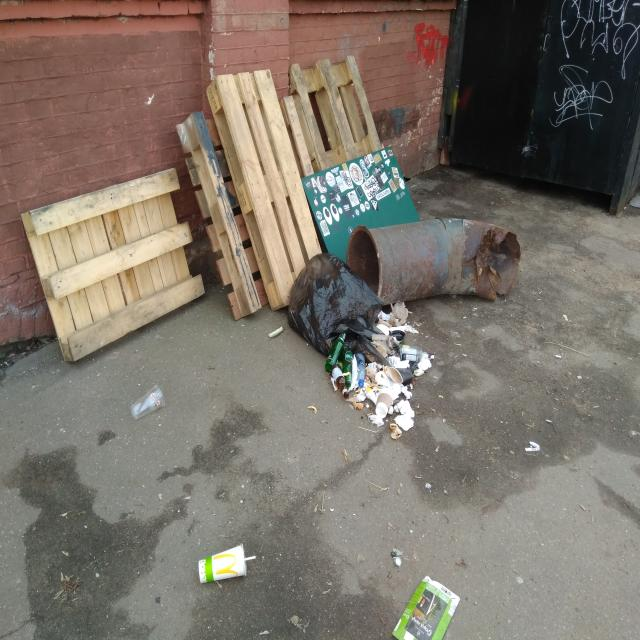entulho: (18, 163, 208, 366), (204, 58, 320, 310), (175, 108, 268, 319), (347, 214, 521, 302), (304, 148, 422, 264), (296, 57, 382, 165)
lixo domiciliar: (287, 250, 383, 356), (389, 575, 462, 640), (368, 364, 416, 436), (198, 542, 256, 582), (372, 304, 407, 357), (130, 384, 165, 420), (390, 344, 434, 361), (327, 332, 345, 372), (332, 365, 349, 397), (344, 350, 354, 388), (356, 352, 366, 390), (269, 325, 285, 340), (524, 443, 544, 450)
